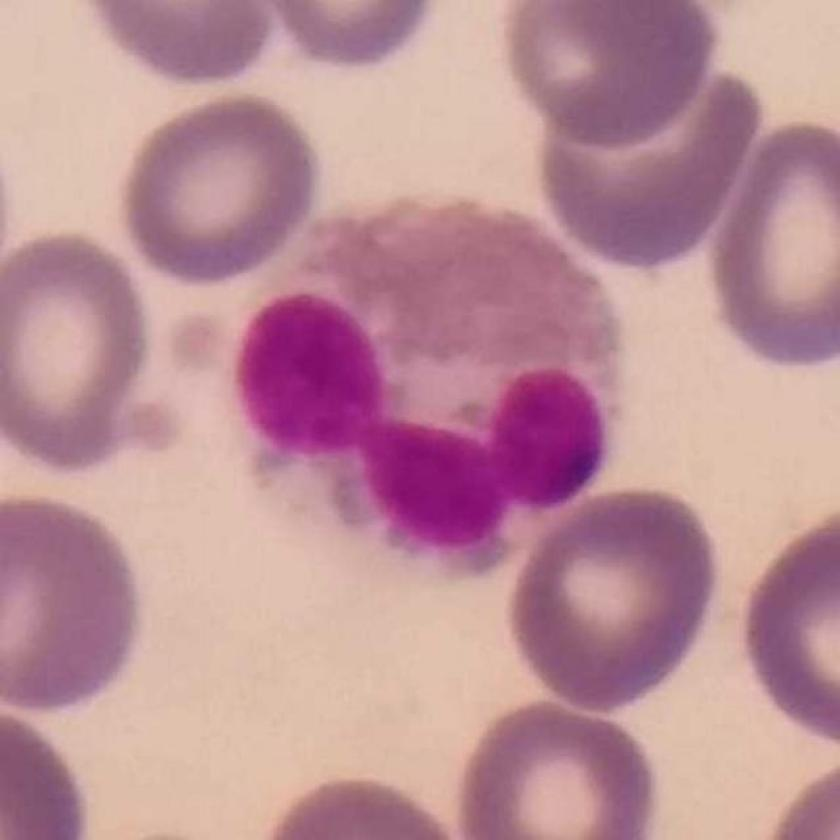eosinophil: (228, 189, 630, 586)
